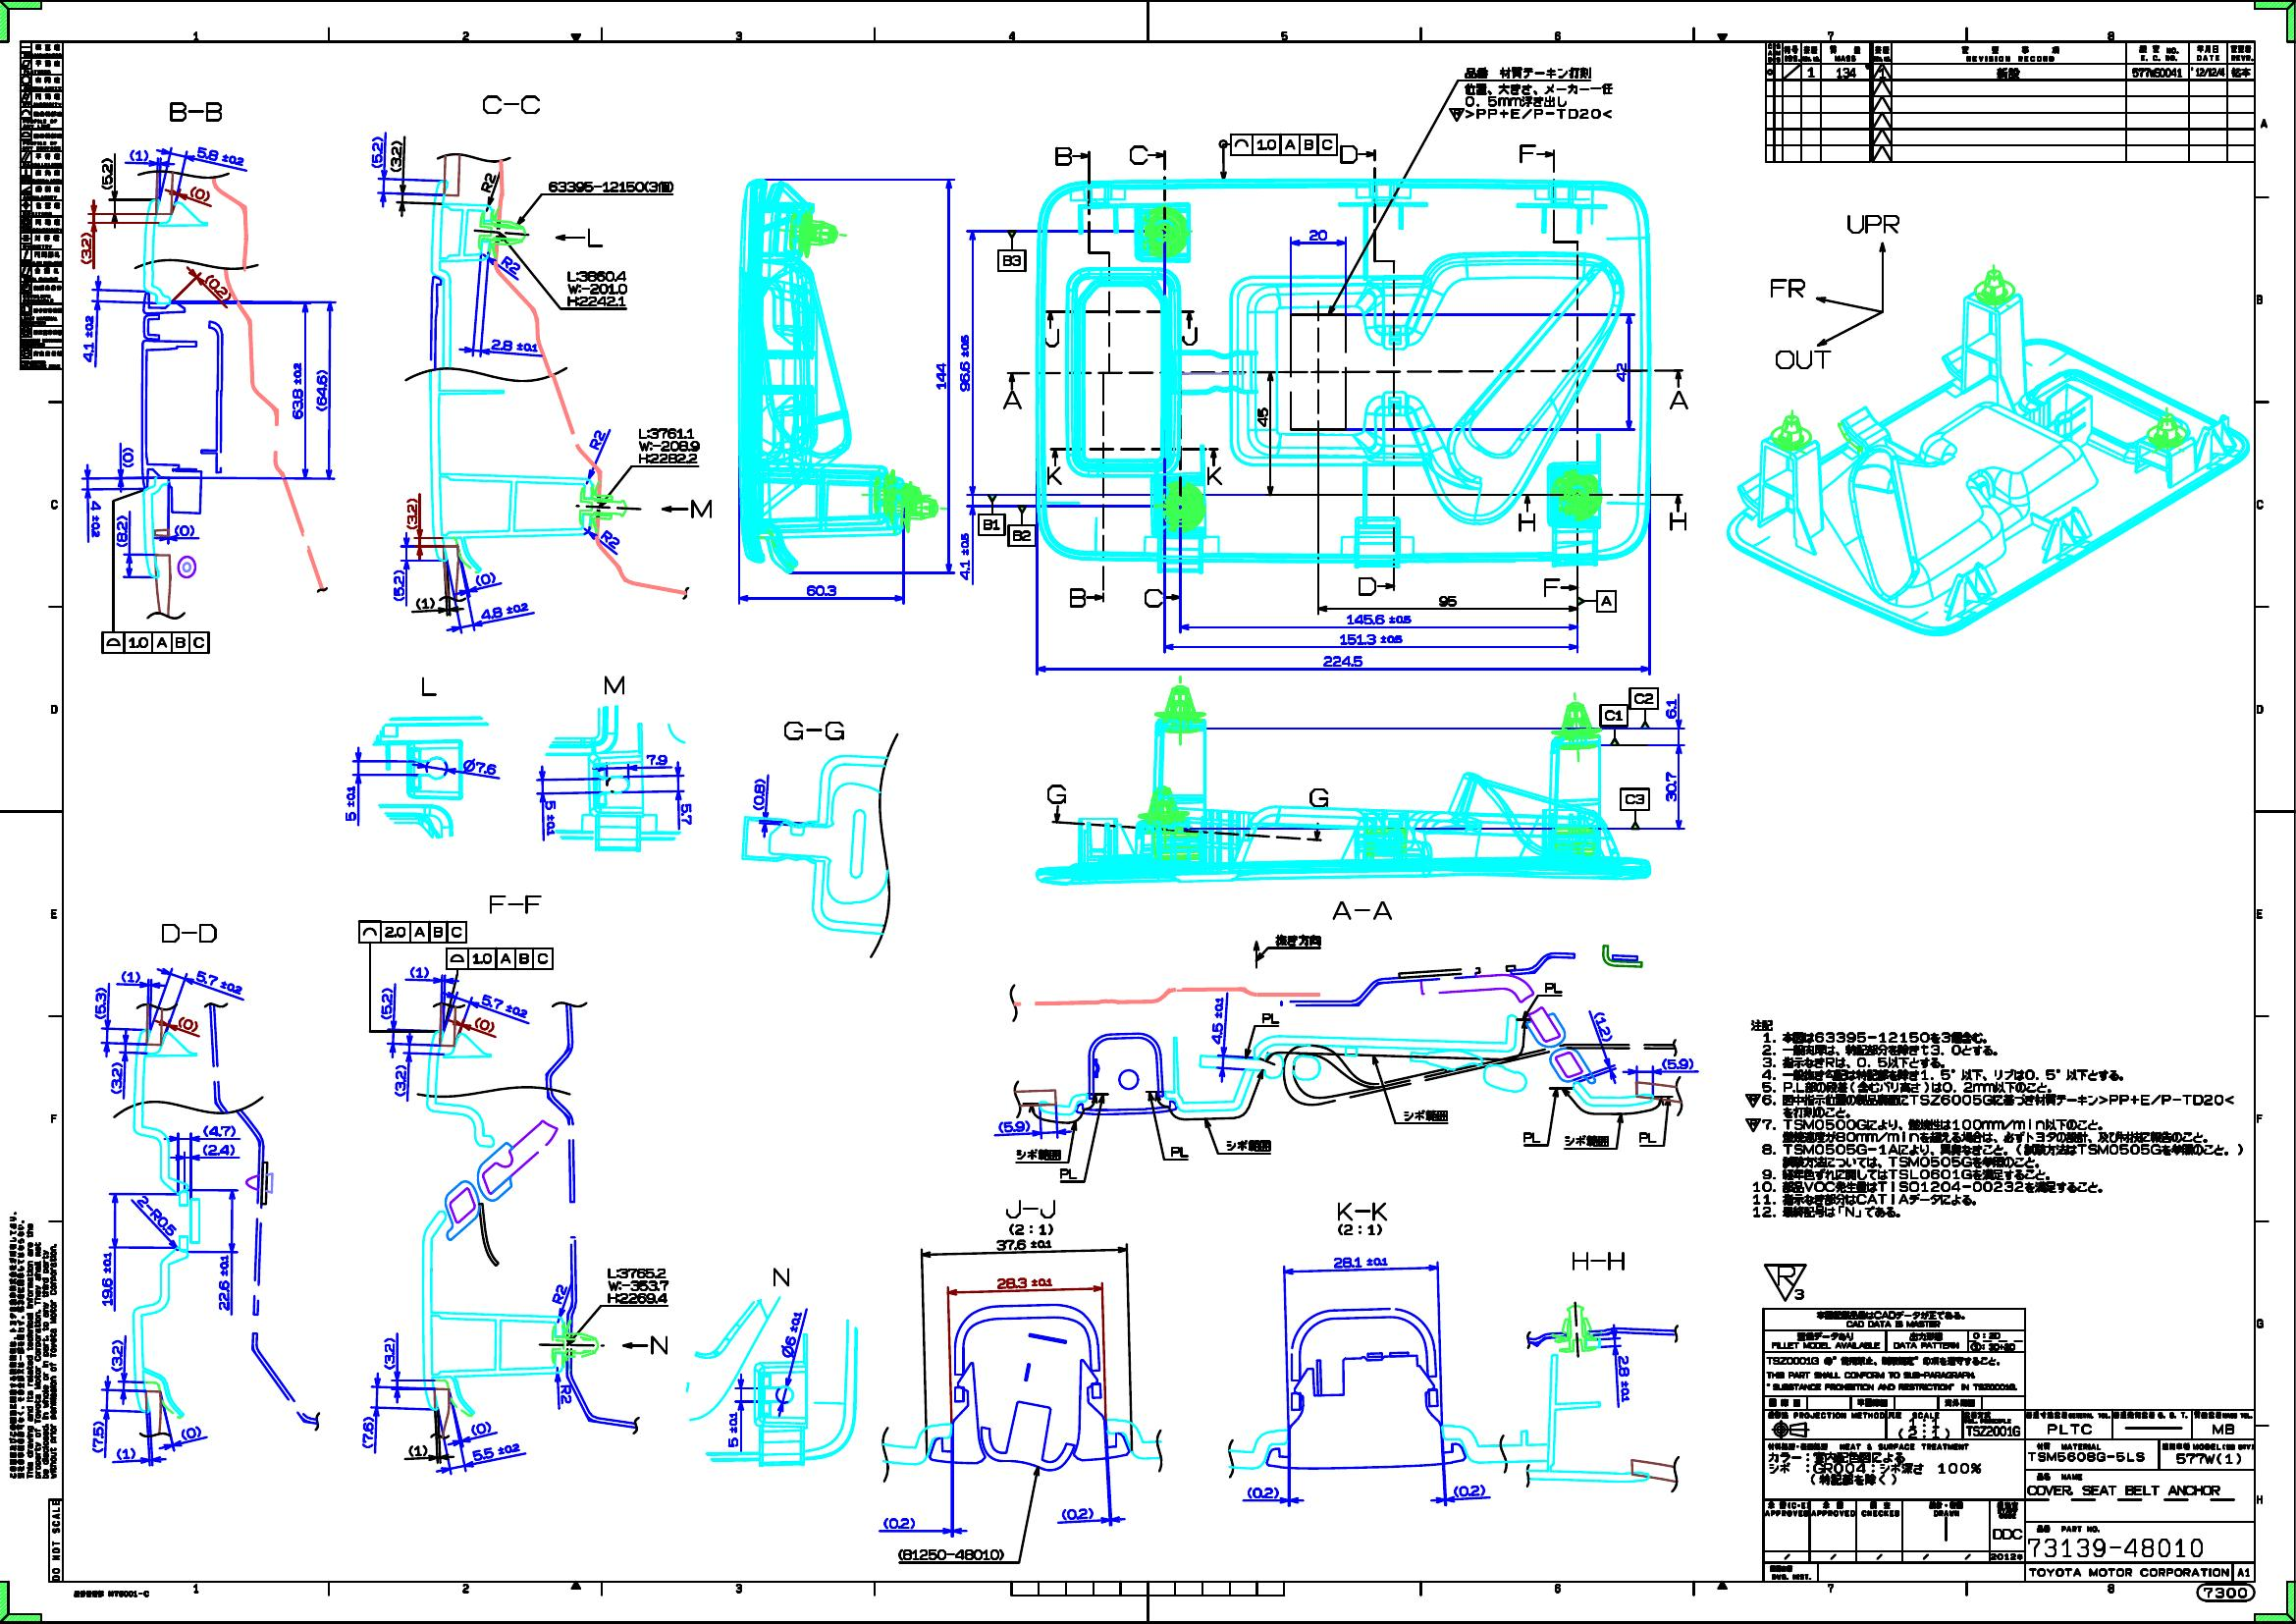anntotation_text: (1744, 1018, 2243, 1218), (7, 1209, 56, 1480), (1463, 65, 1614, 95), (358, 919, 466, 942), (1230, 134, 1337, 156), (1448, 107, 1614, 121), (446, 947, 553, 968), (102, 631, 209, 652), (1760, 1262, 1809, 1304), (1333, 1200, 1388, 1237), (1005, 1199, 1056, 1236), (898, 1548, 1005, 1561), (548, 181, 673, 192), (783, 719, 845, 740), (1774, 348, 1832, 369), (488, 893, 541, 916), (1569, 1250, 1625, 1271), (162, 923, 218, 944), (1332, 900, 1391, 919), (481, 95, 539, 114), (169, 102, 221, 121), (1846, 214, 1899, 234), (1769, 278, 1806, 297), (1620, 787, 1650, 810), (1275, 933, 1323, 947), (1630, 687, 1658, 710), (1008, 526, 1036, 547), (998, 250, 1026, 271), (1226, 1139, 1272, 1151), (1600, 705, 1627, 726), (978, 513, 1005, 534), (1404, 1109, 1448, 1121), (1563, 1135, 1609, 1146), (1015, 1149, 1061, 1160), (648, 1334, 669, 1355), (1045, 784, 1066, 805), (1667, 390, 1688, 411), (771, 1265, 791, 1287), (604, 675, 624, 696), (690, 499, 711, 518), (1597, 591, 1616, 612), (1667, 510, 1686, 531), (1309, 787, 1328, 807), (1144, 589, 1163, 608), (1339, 144, 1358, 163), (1003, 390, 1022, 410), (1542, 576, 1560, 598), (1130, 144, 1147, 165), (1180, 325, 1198, 346), (587, 228, 604, 248), (1358, 576, 1375, 596), (1518, 144, 1535, 163), (1054, 146, 1072, 165), (1518, 513, 1535, 533), (422, 675, 437, 696), (1070, 587, 1086, 608), (1047, 466, 1063, 485), (1207, 466, 1223, 485), (552, 1283, 566, 1304), (1045, 329, 1059, 348), (1260, 1012, 1281, 1025), (481, 172, 494, 193), (501, 258, 522, 271), (590, 429, 603, 450), (599, 533, 620, 545), (1170, 1146, 1189, 1158), (1059, 1167, 1077, 1179), (560, 1385, 571, 1404), (1544, 982, 1563, 993), (1639, 1132, 1657, 1142), (1523, 1132, 1541, 1142)
dimension_text: (606, 1267, 669, 1304), (638, 427, 699, 464), (566, 269, 627, 306), (1463, 95, 1567, 107), (290, 362, 304, 420), (1339, 633, 1404, 645), (959, 334, 971, 394), (218, 1253, 230, 1311), (1346, 613, 1412, 624), (996, 1276, 1052, 1288), (996, 1237, 1052, 1250), (783, 1309, 798, 1359), (195, 975, 244, 990), (195, 149, 246, 162), (471, 1445, 520, 1457), (132, 1209, 181, 1222), (480, 1000, 529, 1012), (314, 369, 329, 411), (1618, 1355, 1630, 1403), (1212, 997, 1224, 1044), (83, 315, 95, 362), (490, 339, 538, 352), (1333, 1257, 1388, 1267), (102, 1251, 112, 1306), (462, 758, 497, 773), (480, 605, 529, 615), (959, 531, 970, 580), (344, 784, 357, 823), (90, 499, 102, 538), (202, 1142, 235, 1156), (379, 986, 393, 1019), (79, 232, 93, 264), (1323, 656, 1363, 666), (882, 1517, 915, 1529), (202, 1125, 235, 1137), (998, 1120, 1031, 1132), (390, 139, 402, 172), (371, 135, 383, 169), (100, 156, 112, 190), (805, 584, 838, 596), (1061, 1508, 1093, 1520), (362, 1417, 374, 1448), (383, 1338, 395, 1369), (111, 1339, 123, 1371), (111, 1062, 123, 1093), (393, 1065, 406, 1097), (545, 800, 555, 837), (1597, 1011, 1609, 1042), (116, 515, 128, 547), (202, 281, 234, 294), (727, 1411, 738, 1446), (1664, 772, 1676, 801), (1453, 1485, 1486, 1496), (93, 1420, 104, 1454), (95, 986, 105, 1019), (754, 777, 764, 810), (1660, 1058, 1693, 1069), (393, 568, 404, 601), (1247, 1487, 1279, 1497), (406, 497, 416, 529), (474, 1018, 495, 1032), (936, 362, 947, 390), (469, 1422, 492, 1434), (645, 752, 668, 765), (474, 573, 497, 585), (116, 1446, 135, 1461), (177, 1018, 199, 1030), (408, 965, 429, 977), (680, 803, 692, 824), (121, 446, 134, 468), (415, 596, 436, 608), (190, 188, 211, 200), (1256, 406, 1268, 427), (121, 970, 141, 982), (128, 149, 148, 162), (408, 1445, 429, 1455), (181, 1427, 202, 1438), (174, 524, 195, 534), (1309, 228, 1326, 241), (1616, 362, 1627, 381), (1665, 698, 1676, 717), (1439, 596, 1456, 606)
object: (1036, 178, 1655, 575), (1722, 260, 2252, 638), (1033, 673, 1651, 886), (1008, 944, 1690, 1125), (429, 153, 687, 599), (422, 1002, 638, 1429), (736, 179, 949, 575), (139, 170, 323, 617), (130, 1002, 318, 1425), (1226, 1308, 1678, 1483), (882, 1302, 1161, 1464), (685, 1295, 857, 1468), (741, 754, 889, 935), (543, 705, 687, 852), (371, 715, 488, 840)
title_block: (1762, 1308, 2256, 1582), (1765, 39, 2256, 162), (19, 40, 63, 369)
